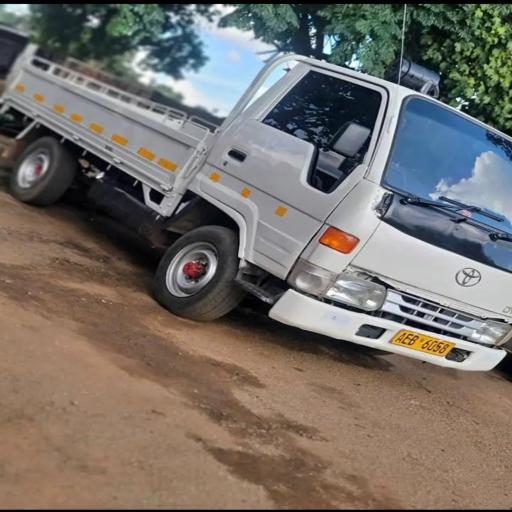number-plates: (394, 323, 454, 358)
